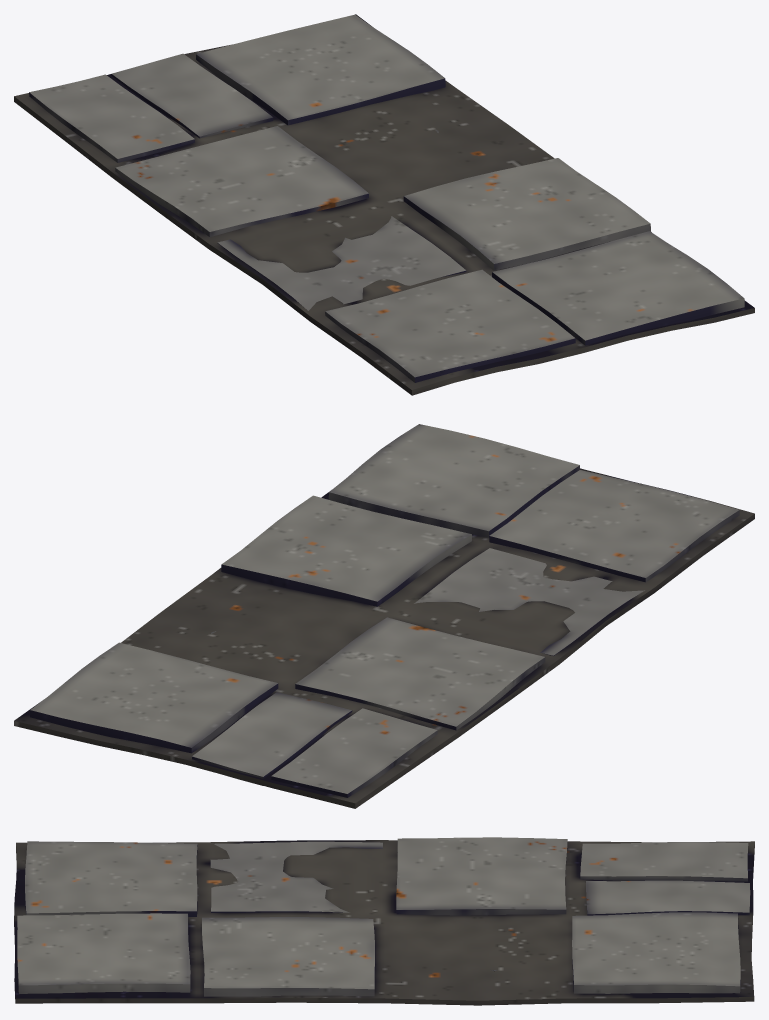
File: YardPath.glb
3 renders of one model, top to bottom at view 1: azimuth 30°, elevation 25°; view 2: azimuth 150°, elevation 25°; view 3: azimuth 270°, elevation 25°, orthographic. The views are drawn at different scales.
Visible parts, largest first — view 1: Pavers, Gravel; view 2: Pavers, Gravel; view 3: Pavers, Gravel.
Boxes of the visible parts, box(x1,y1,x2,y2) form: Pavers: box(29, 14, 744, 382); Gravel: box(14, 14, 754, 395); Pavers: box(30, 424, 739, 797); Gravel: box(14, 468, 754, 808); Pavers: box(17, 837, 750, 996); Gravel: box(14, 840, 754, 1005).
Bounding box in the file's own units: 4.07 × 0.2243 × 8.05.
3 materials, 3 textured.
